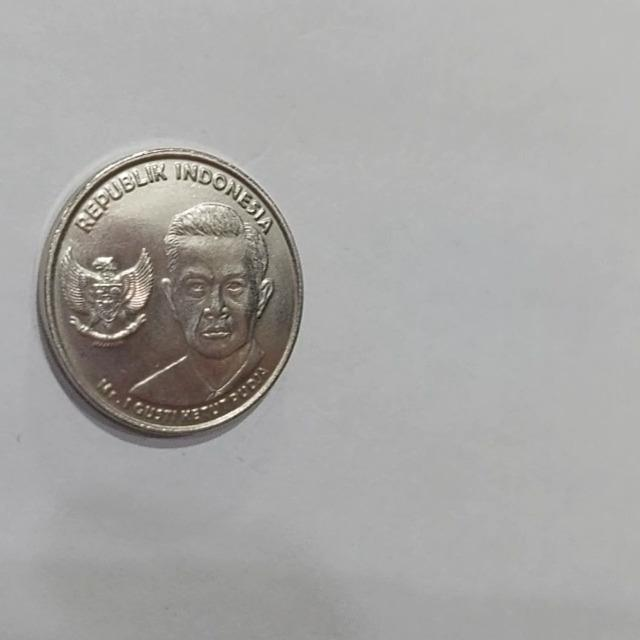Rp100: (36, 145, 305, 441)
